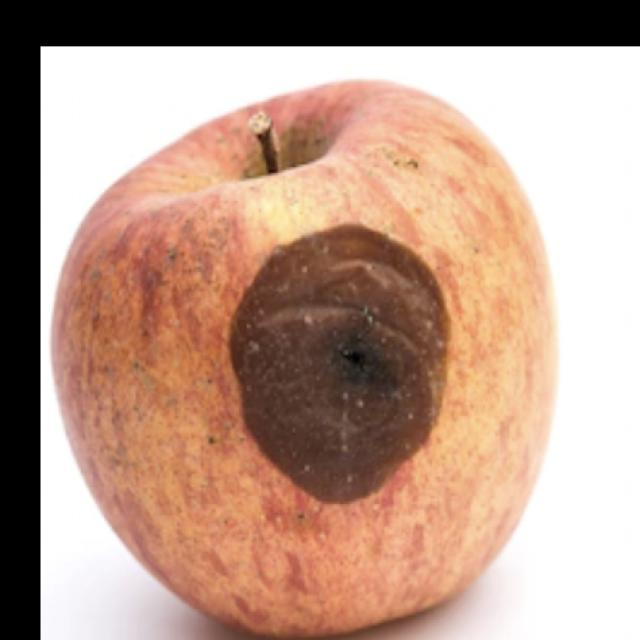Rotten: (66, 96, 556, 640)
